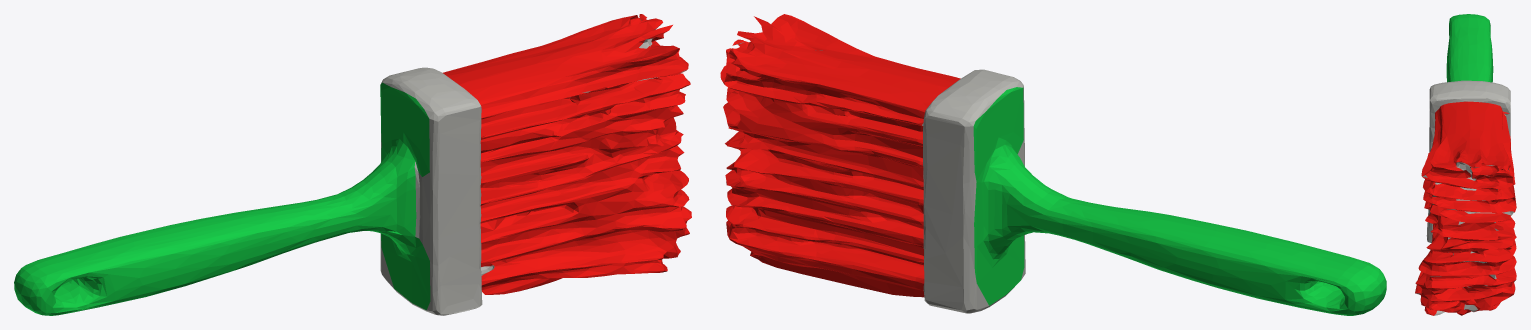
Rendered from blue_brush.obj.
The picture shows the model from 3 angles, left to right: view 1: azimuth 30°, elevation 25°; view 2: azimuth 150°, elevation 25°; view 3: azimuth 270°, elevation 25°; orthographic projection. The views are drawn at different scales.
Bounding box in the file's own units: 0.21 × 0.07 × 0.04.
